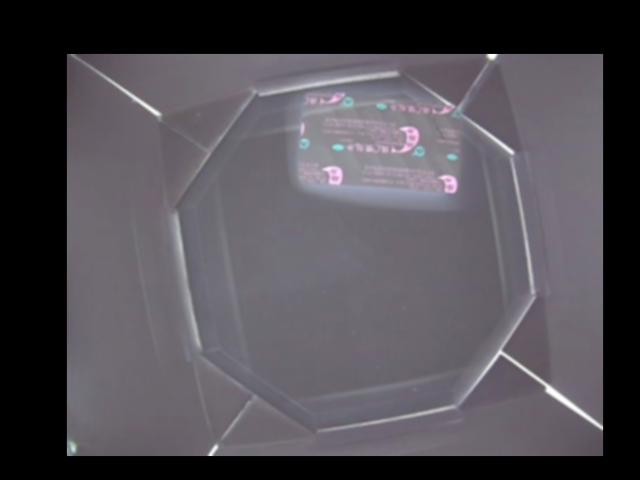Medicine: (295, 89, 463, 194)
